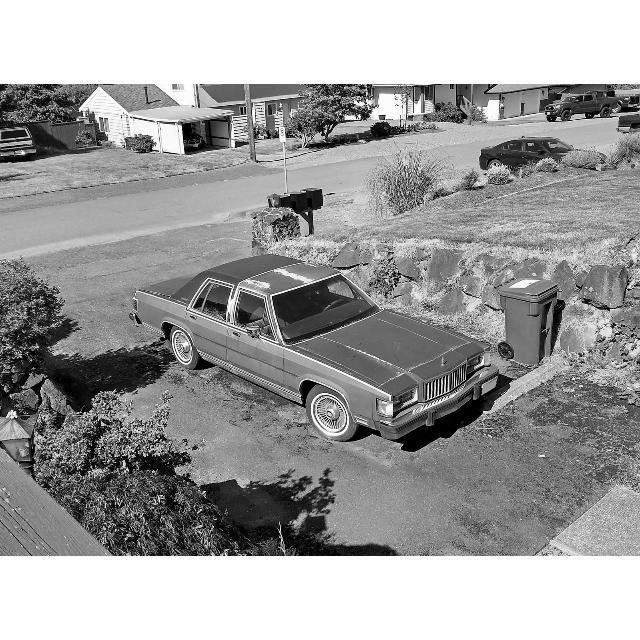roof-dent: (210, 257, 352, 302)
